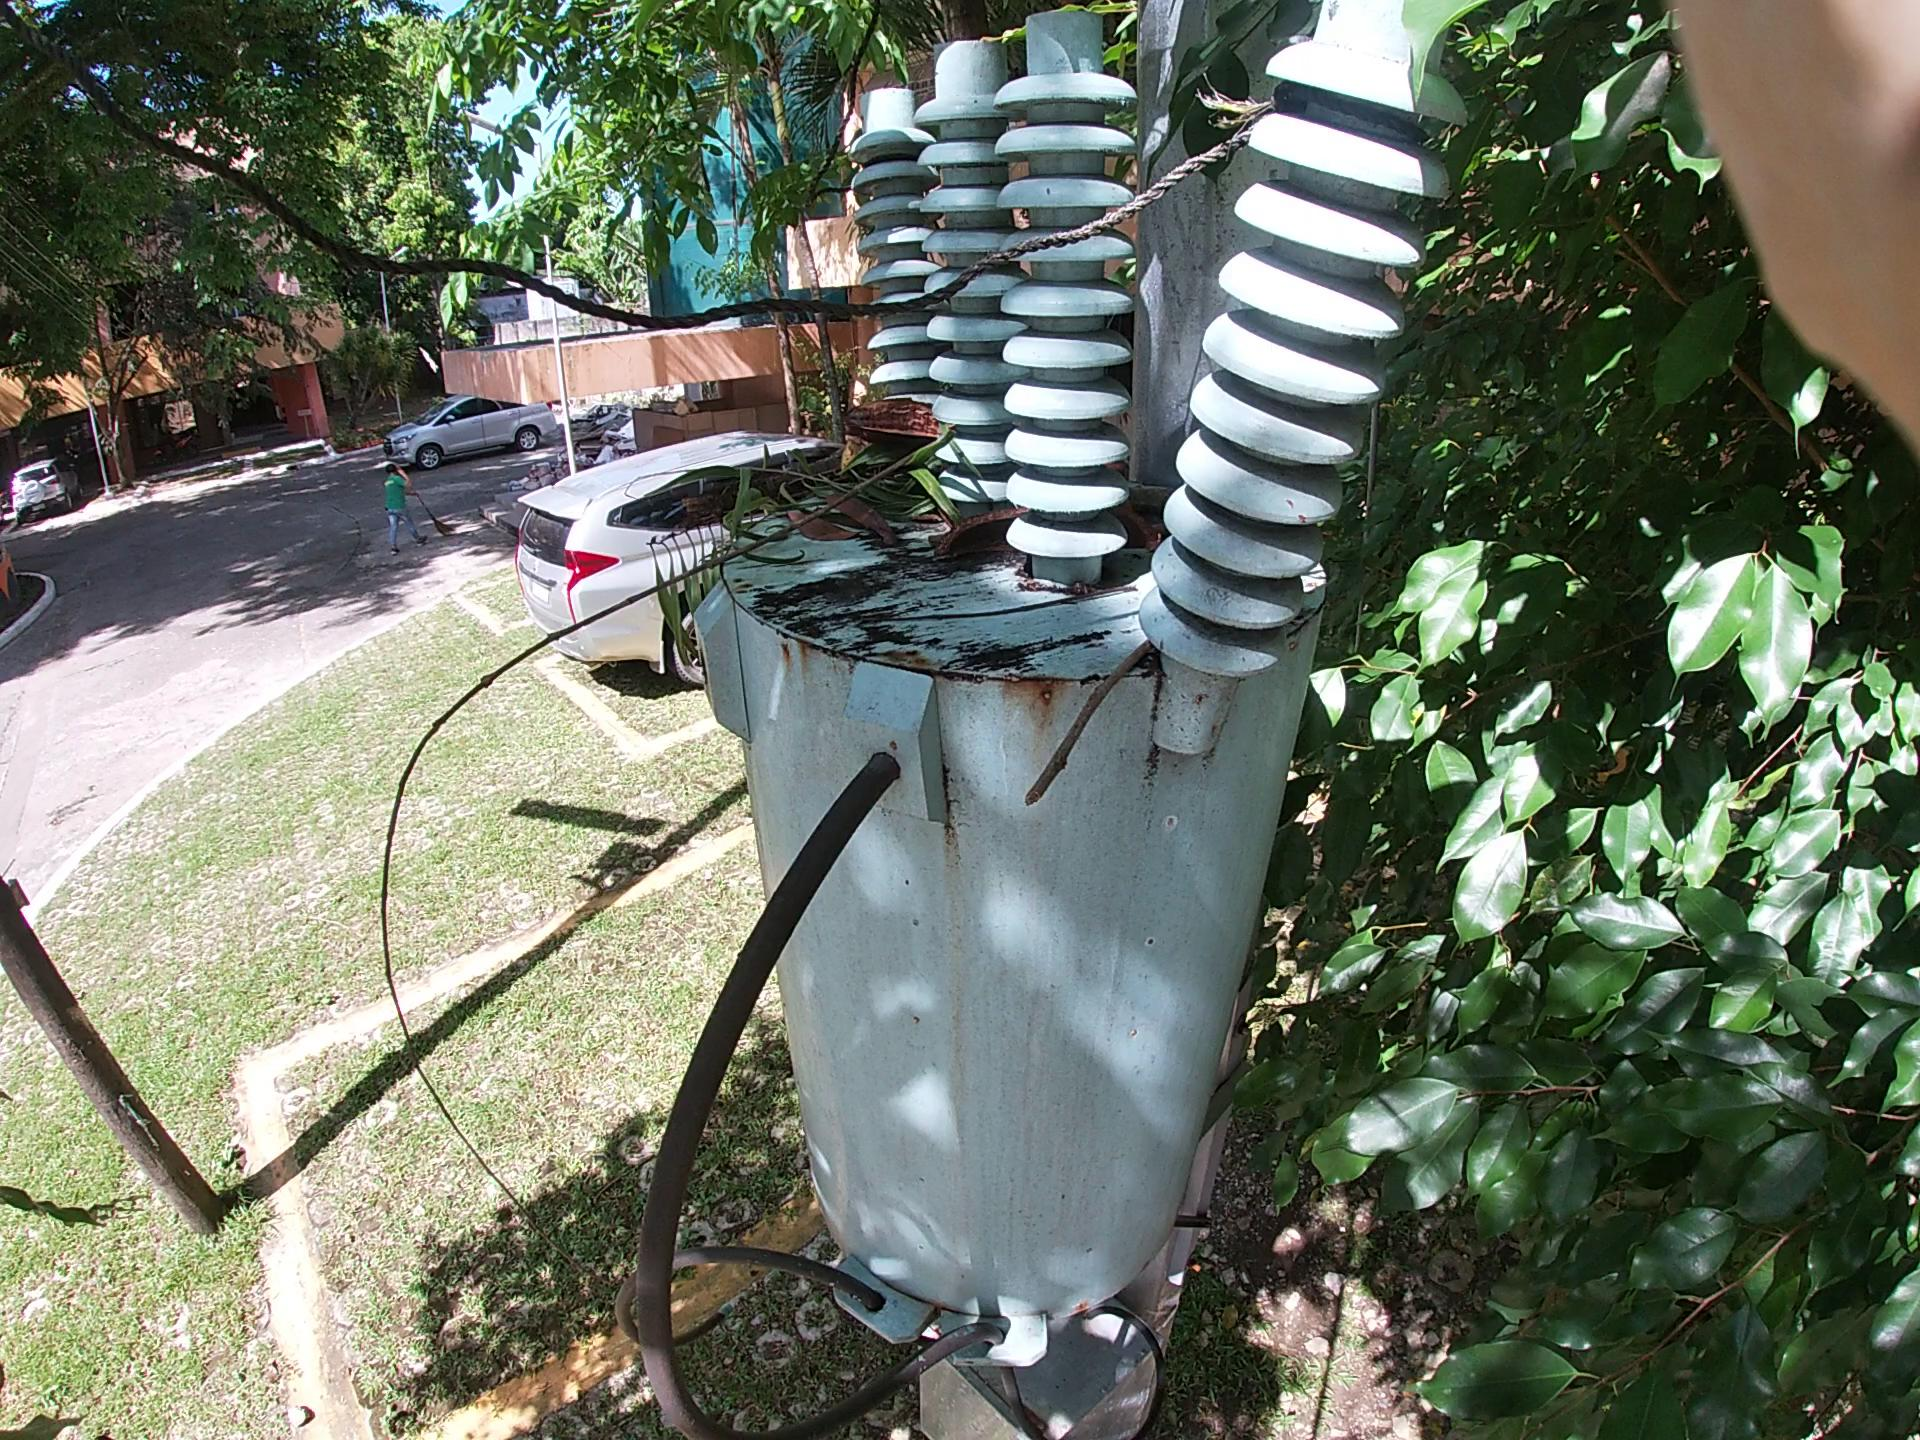branch with leaves: (671, 369, 990, 566)
leaf: (765, 440, 893, 582)
mahogany fruit: (963, 473, 1243, 564), (825, 343, 972, 473)
tree branch: (1019, 594, 1150, 811), (916, 520, 1144, 632)
